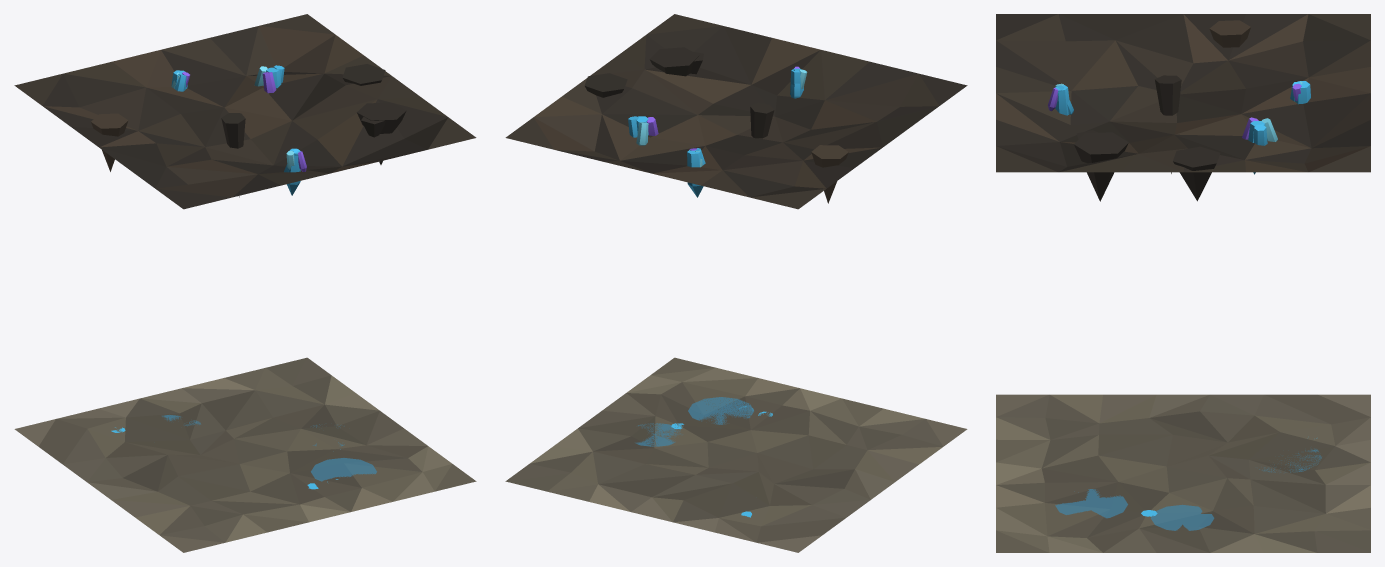
File: floor_a.fbx
3 renders of one model, left to right at view 1: azimuth 30°, elevation 25°; view 2: azimuth 150°, elevation 25°; view 3: azimuth 270°, elevation 25°, orthographic. The views are drawn at different scales.
Visible parts, largest first — view 1: Ceiling, floor_a; view 2: Ceiling, floor_a; view 3: Ceiling, floor_a.
Part boxes in pixels (box(x1,y1,x2,y2)): Ceiling: box(14, 14, 476, 209); floor_a: box(14, 357, 476, 552); Ceiling: box(505, 14, 967, 209); floor_a: box(505, 357, 967, 552); Ceiling: box(996, 14, 1370, 201); floor_a: box(996, 394, 1370, 552).
Bounding box in the file's own units: 4 × 4.53 × 4.
